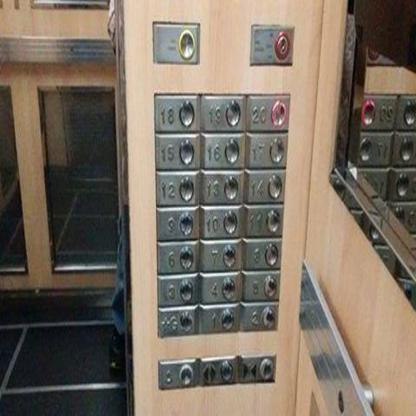1: (198, 300, 242, 334)
10: (198, 203, 245, 240)
11: (243, 201, 284, 239)
12: (154, 167, 201, 207)
13: (199, 168, 245, 206)
14: (243, 166, 287, 204)
15: (153, 131, 201, 171)
16: (199, 129, 246, 171)
17: (244, 129, 288, 171)
18: (153, 92, 201, 133)
19: (200, 91, 247, 134)
2: (240, 300, 279, 332)
20: (244, 91, 290, 133)
3: (155, 272, 200, 308)
4: (198, 270, 242, 305)
5: (242, 269, 280, 303)
6: (155, 238, 200, 274)
7: (198, 236, 242, 272)
8: (241, 236, 282, 271)
9: (155, 204, 201, 241)
alarm: (156, 355, 199, 390)
bt_keyhole: (248, 22, 294, 67)
close: (239, 352, 276, 386)
open: (198, 354, 239, 388)
sG: (156, 303, 199, 338)
text_blur: (150, 18, 200, 67)
unknown: (358, 93, 397, 130), (355, 132, 394, 167)
